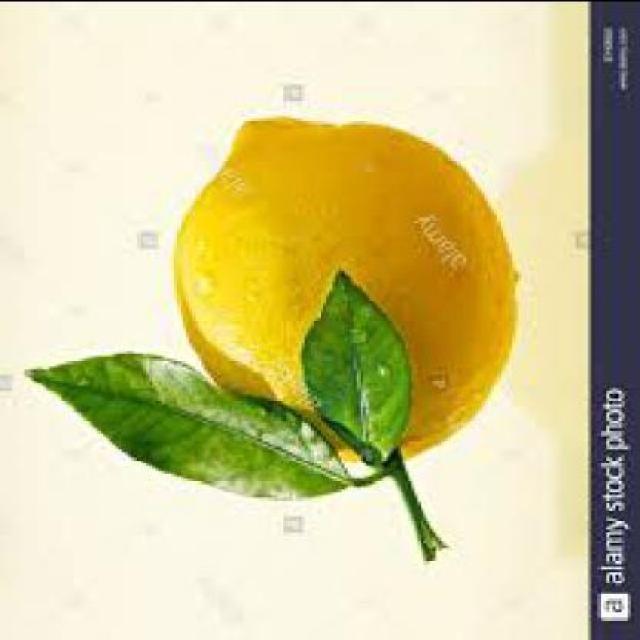BIODEGRADABLE: (167, 119, 518, 467), (21, 354, 348, 504), (298, 270, 412, 472)
